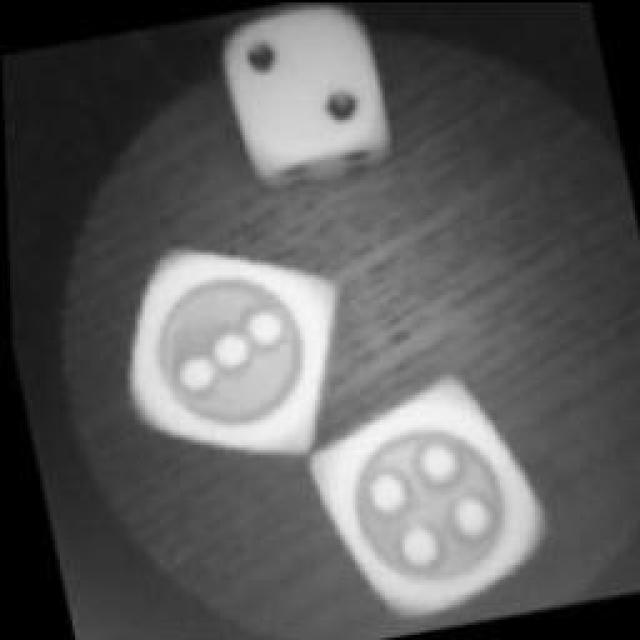dice_2: (205, 0, 400, 185)
dice_3: (102, 228, 368, 470)
dice_4: (294, 378, 556, 628)
